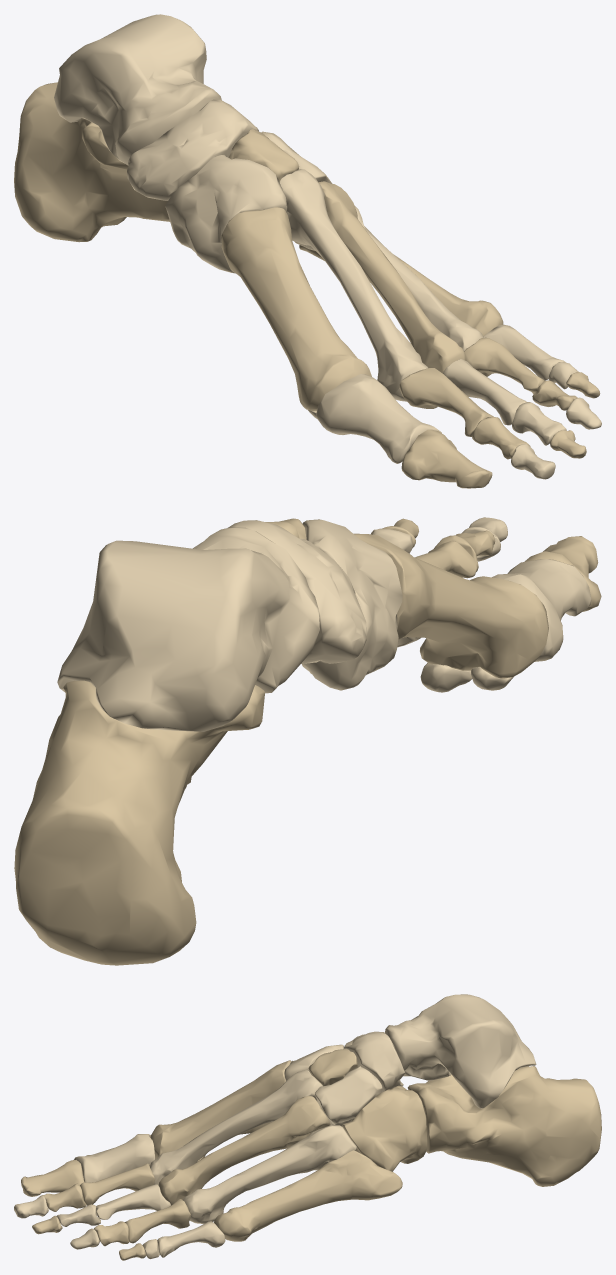
The model's file is l-foot.glb.
3 renders of one model, top to bottom at view 1: azimuth 30°, elevation 25°; view 2: azimuth 150°, elevation 25°; view 3: azimuth 270°, elevation 25°, orthographic. The views are drawn at different scales.
Visible parts, largest first — view 1: left-talus, left-calcaneus, left-first-metatarsal-bone, left-second-metatarsal-bone, left-medial-cuneiform, left-navicular, left-third-metatarsal-bone, left-big-toe-proximal-phalanx, left-big-toe-distal-phalanx, left-second-toe-proximal-phalanx, left-fourth-metatarsal-bone, left-third-toe-proximal-phalanx (+11 smaller); view 2: left-calcaneus, left-talus, left-first-metatarsal-bone, left-medial-cuneiform, left-navicular, left-big-toe-proximal-phalanx, left-big-toe-distal-phalanx, left-sesamoid-bones-of-the-foot, left-second-toe-proximal-phalanx, left-second-toe-middle-phalanx, left-second-toe-distal-phalanx; view 3: left-calcaneus, left-talus, left-fifth-metatarsal-bone, left-fourth-metatarsal-bone, left-third-metatarsal-bone, left-cuboid, left-second-metatarsal-bone, left-first-metatarsal-bone, left-lateral-cuneiform, left-big-toe-proximal-phalanx, left-navicular, left-second-toe-proximal-phalanx (+12 smaller).
Boxes of the visible parts, x1=… form: left-talus: x1=54, y1=14, x2=221, y2=165; left-calcaneus: x1=14, y1=82, x2=169, y2=242; left-first-metatarsal-bone: x1=221, y1=207, x2=371, y2=411; left-second-metatarsal-bone: x1=279, y1=169, x2=427, y2=401; left-medial-cuneiform: x1=165, y1=154, x2=286, y2=273; left-navicular: x1=127, y1=99, x2=258, y2=200; left-third-metatarsal-bone: x1=294, y1=181, x2=465, y2=373; left-big-toe-proximal-phalanx: x1=316, y1=374, x2=441, y2=463; left-big-toe-distal-phalanx: x1=401, y1=429, x2=492, y2=488; left-second-toe-proximal-phalanx: x1=399, y1=368, x2=493, y2=436; left-fourth-metatarsal-bone: x1=296, y1=206, x2=483, y2=351; left-third-toe-proximal-phalanx: x1=443, y1=359, x2=526, y2=425; left-calcaneus: x1=14, y1=680, x2=264, y2=965; left-talus: x1=57, y1=527, x2=319, y2=731; left-first-metatarsal-bone: x1=353, y1=533, x2=548, y2=678; left-medial-cuneiform: x1=302, y1=519, x2=402, y2=690; left-navicular: x1=228, y1=520, x2=366, y2=663; left-big-toe-proximal-phalanx: x1=492, y1=559, x2=591, y2=661; left-big-toe-distal-phalanx: x1=524, y1=536, x2=601, y2=611; left-sesamoid-bones-of-the-foot: x1=420, y1=662, x2=513, y2=692; left-second-toe-proximal-phalanx: x1=415, y1=541, x2=476, y2=578; left-second-toe-middle-phalanx: x1=434, y1=530, x2=495, y2=571; left-second-toe-distal-phalanx: x1=462, y1=517, x2=507, y2=561; left-calcaneus: x1=407, y1=1066, x2=601, y2=1186; left-talus: x1=385, y1=994, x2=536, y2=1108; left-fifth-metatarsal-bone: x1=214, y1=1150, x2=402, y2=1241; left-fourth-metatarsal-bone: x1=183, y1=1125, x2=356, y2=1223; left-third-metatarsal-bone: x1=158, y1=1096, x2=330, y2=1205; left-cuboid: x1=342, y1=1086, x2=427, y2=1171; left-second-metatarsal-bone: x1=150, y1=1070, x2=325, y2=1184; left-first-metatarsal-bone: x1=150, y1=1060, x2=291, y2=1161; left-lateral-cuneiform: x1=315, y1=1066, x2=382, y2=1126; left-big-toe-proximal-phalanx: x1=74, y1=1134, x2=155, y2=1182; left-navicular: x1=344, y1=1031, x2=405, y2=1092; left-second-toe-proximal-phalanx: x1=80, y1=1163, x2=154, y2=1205.
Size of the model in its own units: 0.2274 by 0.1846 by 0.5541.
